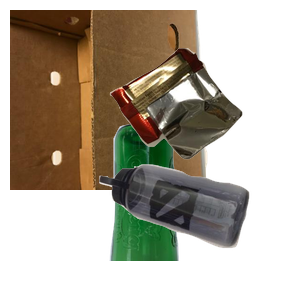cardboard: (10, 10, 211, 190)
glass: (107, 120, 278, 300)
plastic: (97, 162, 300, 300)
trash: (107, 46, 300, 198)
